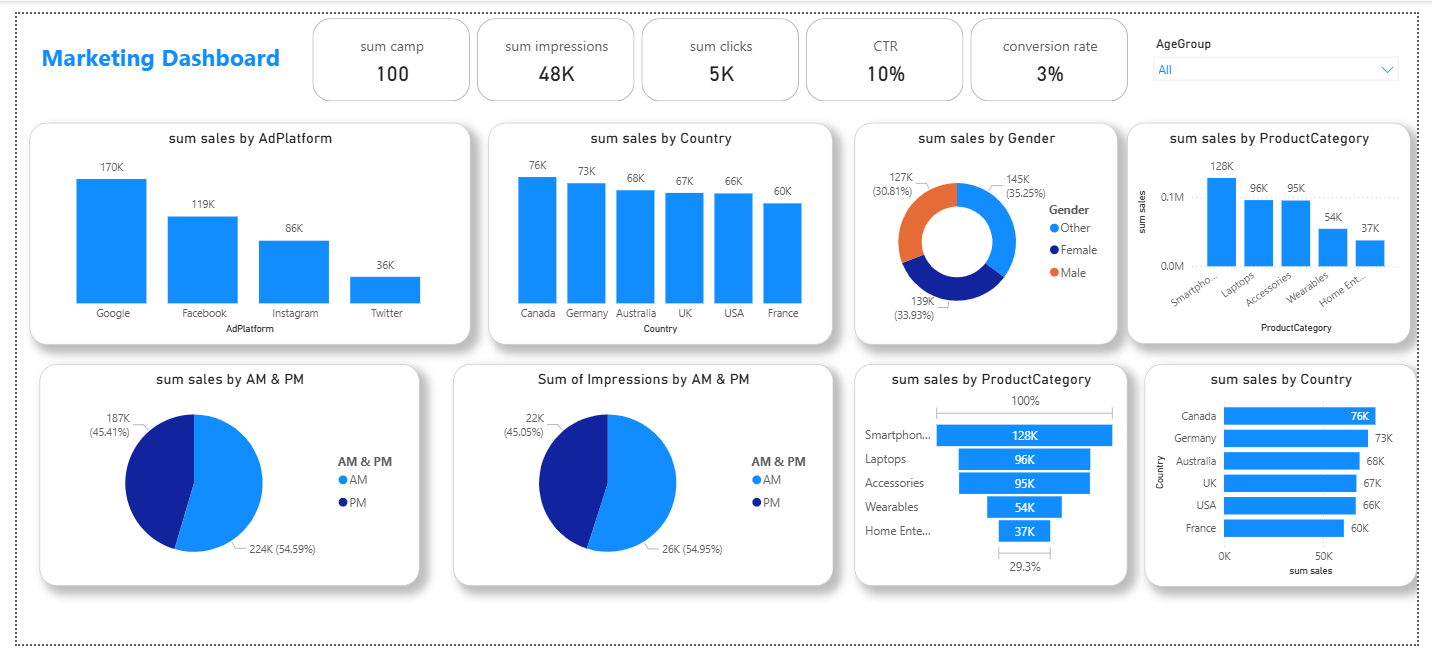

This screenshot's page, from the dashboard's own definition file:
{"tool":"powerbi","page":{"name":"Overview","canvas":[1600,720],"ordinal":0},"visuals":[{"type":"cardVisual","fields":{"Data":["FitBitDataMarketing.sum camp","FitBitDataMarketing.sum impressions","FitBitDataMarketing.sum clicks","FitBitDataMarketing.CTR","FitBitDataMarketing.conversion rate"]},"box":[332.9,0,942.9,105.7],"z":0},{"type":"columnChart","fields":{"Category":["FitBitDataMarketing.AdPlatform"],"Y":["FitBitDataMarketing.sum sales"]},"box":[13.7,123.6,503.7,253.2],"z":1},{"type":"donutChart","fields":{"Category":["FitBitDataMarketing.Gender"],"Y":["FitBitDataMarketing.sum sales"]},"box":[957,123.6,300.5,253.2],"z":2},{"type":"columnChart","fields":{"Y":["FitBitDataMarketing.sum sales"],"Category":["FitBitDataMarketing.Country"]},"box":[538.2,123.6,393.7,253.2],"z":3},{"type":"pieChart","fields":{"Category":["FitBitDataMarketing.AM & PM"],"Y":["FitBitDataMarketing.sum sales"]},"box":[26.2,400.5,434.1,253.2],"z":4},{"type":"pieChart","fields":{"Category":["FitBitDataMarketing.AM & PM"],"Y":["Sum(FitBitDataMarketing.Impressions)"]},"box":[497.9,400.5,434.1,253.2],"z":5},{"type":"funnel","fields":{"Y":["FitBitDataMarketing.sum sales"],"Category":["FitBitDataMarketing.ProductCategory"]},"box":[957,400.5,311.7,253.2],"z":7},{"type":"textbox","box":[14.3,25.7,300,52.9],"z":8},{"type":"clusteredColumnChart","fields":{"Y":["FitBitDataMarketing.sum sales"],"Category":["FitBitDataMarketing.ProductCategory"]},"box":[1268.6,124.3,324.3,252.9],"z":9},{"type":"barChart","fields":{"Category":["FitBitDataMarketing.Country"],"Y":["FitBitDataMarketing.sum sales"]},"box":[1288.6,400,311.4,254.3],"z":10},{"type":"slicer","fields":{"Values":["FitBitDataMarketing.AgeGroup"]},"box":[1288.6,20,300,85.7],"z":11}]}

Visuals, with their boxes in screenshot pixels (x1, y1, x2, y2), scaled from the page's 1600x720 canvas onto the 1432x657 screenshot:
cardVisual - FitBitDataMarketing.sum camp x FitBitDataMarketing.sum impressions: region(298, 0, 1142, 96)
columnChart - FitBitDataMarketing.AdPlatform x FitBitDataMarketing.sum sales: region(12, 113, 463, 344)
donutChart - FitBitDataMarketing.Gender x FitBitDataMarketing.sum sales: region(857, 113, 1125, 344)
columnChart - FitBitDataMarketing.sum sales x FitBitDataMarketing.Country: region(482, 113, 834, 344)
pieChart - FitBitDataMarketing.AM & PM x FitBitDataMarketing.sum sales: region(23, 365, 412, 597)
pieChart - FitBitDataMarketing.AM & PM x Sum(FitBitDataMarketing.Impressions): region(446, 365, 834, 597)
funnel - FitBitDataMarketing.sum sales x FitBitDataMarketing.ProductCategory: region(857, 365, 1135, 597)
textbox: region(13, 23, 281, 72)
clusteredColumnChart - FitBitDataMarketing.sum sales x FitBitDataMarketing.ProductCategory: region(1135, 113, 1426, 344)
barChart - FitBitDataMarketing.Country x FitBitDataMarketing.sum sales: region(1153, 365, 1431, 597)
slicer - FitBitDataMarketing.AgeGroup: region(1153, 18, 1422, 96)
